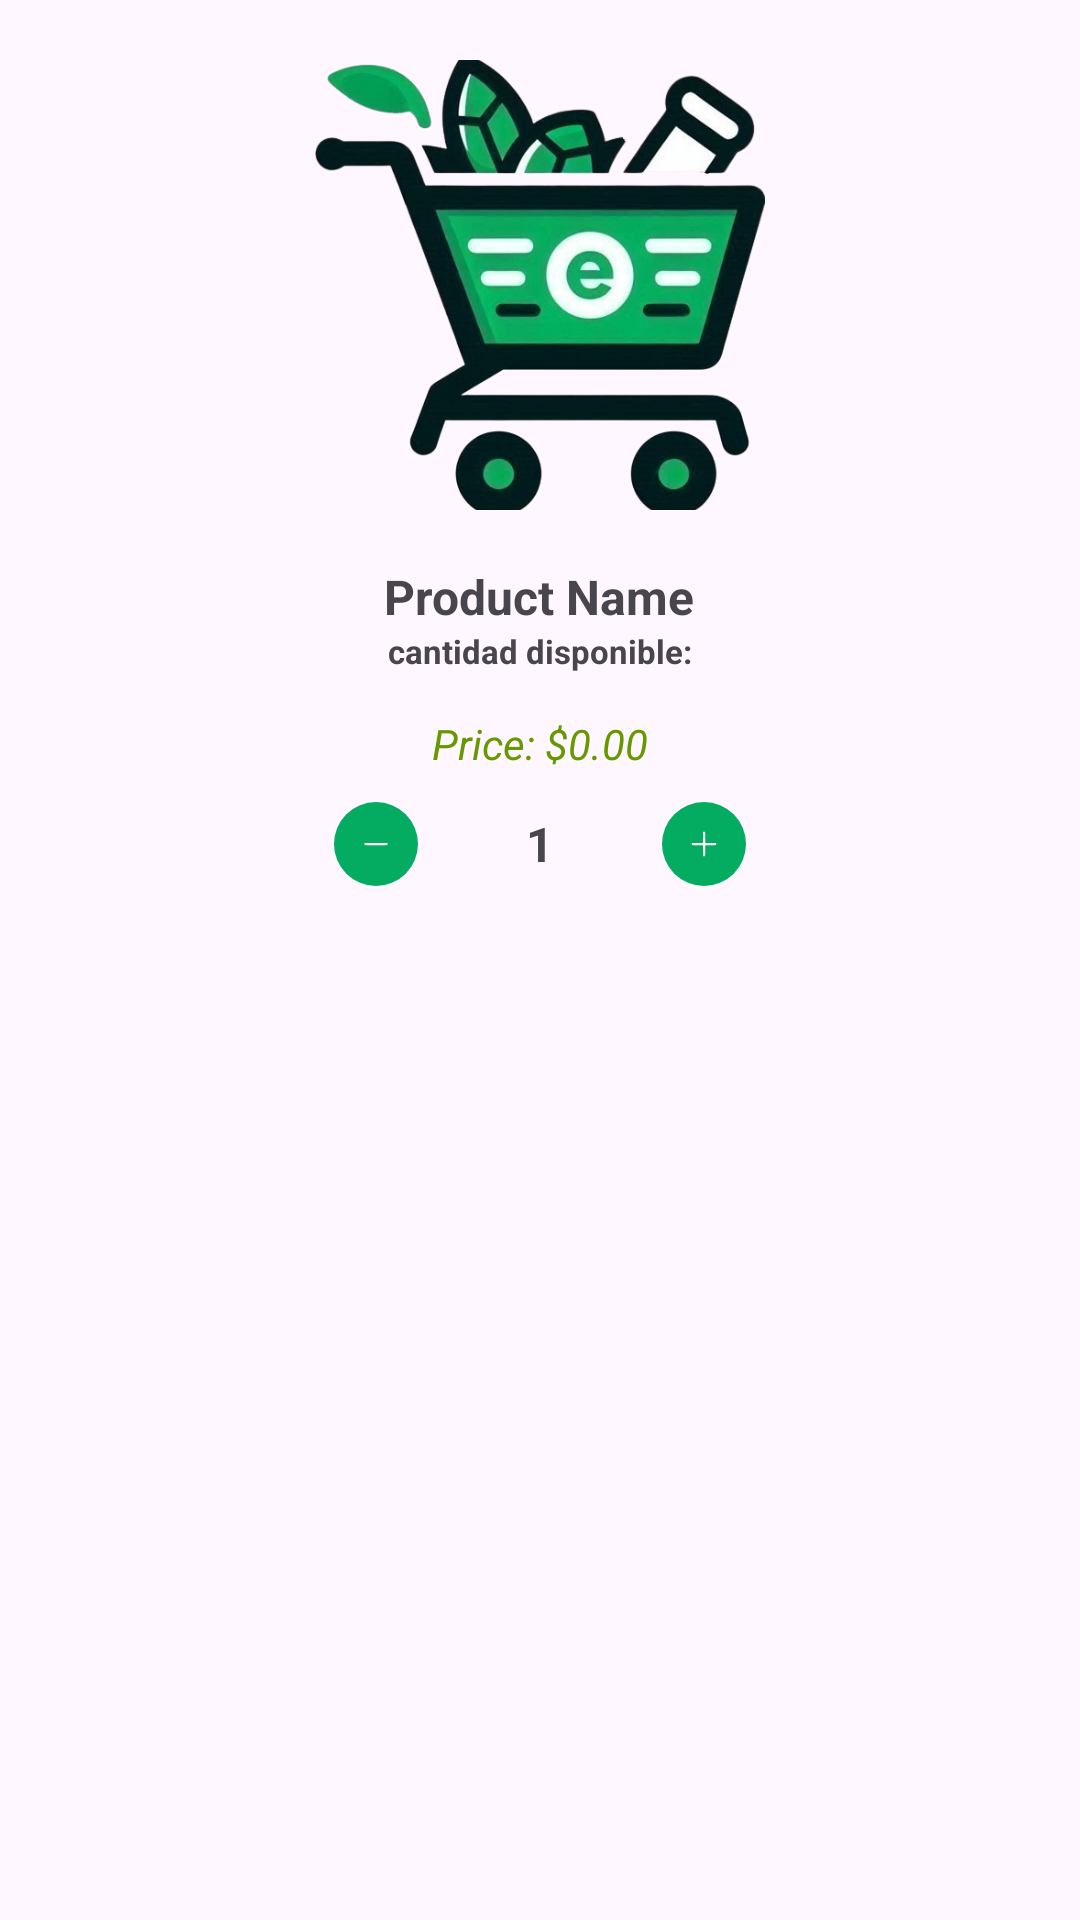

Point at icon controls on the screen. Image size 1080x1920, points as [x,y].
minus boton: [376,844]
plus boton: [704,844]
